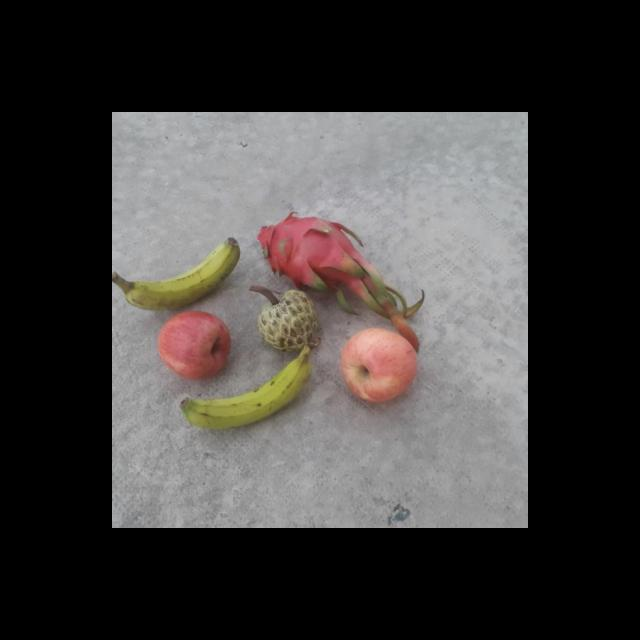Sakya fruit: (254, 286, 322, 354)
apple: (339, 324, 423, 404), (157, 312, 230, 377)
banana: (176, 339, 319, 433), (112, 233, 243, 309)
pitaya: (256, 212, 360, 289)
